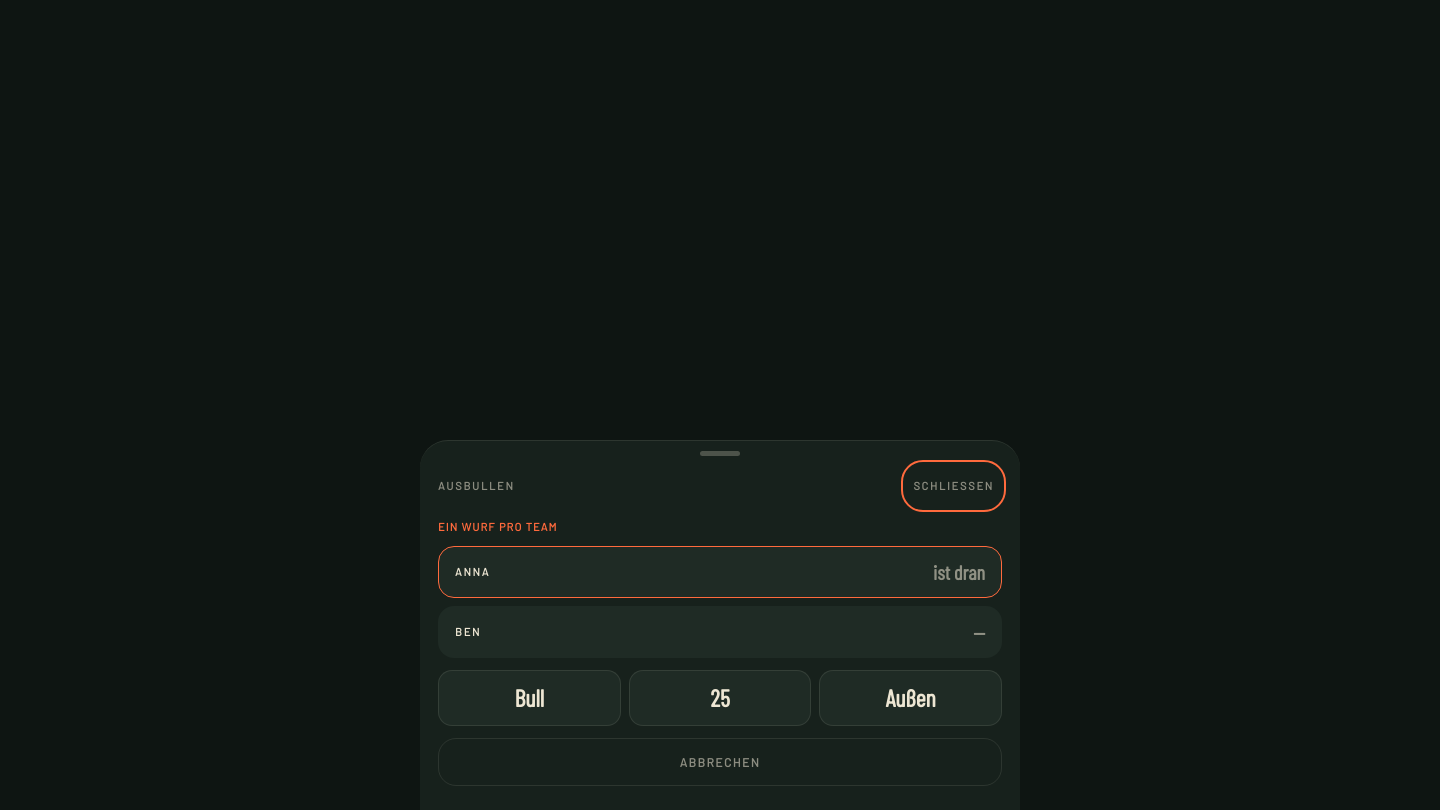
Test: BullOffModal › re-throws only between the tied players
The width and height of the screenshot is (1440, 810).
Click the button "25" at (720, 698), box [629,670,811,726]
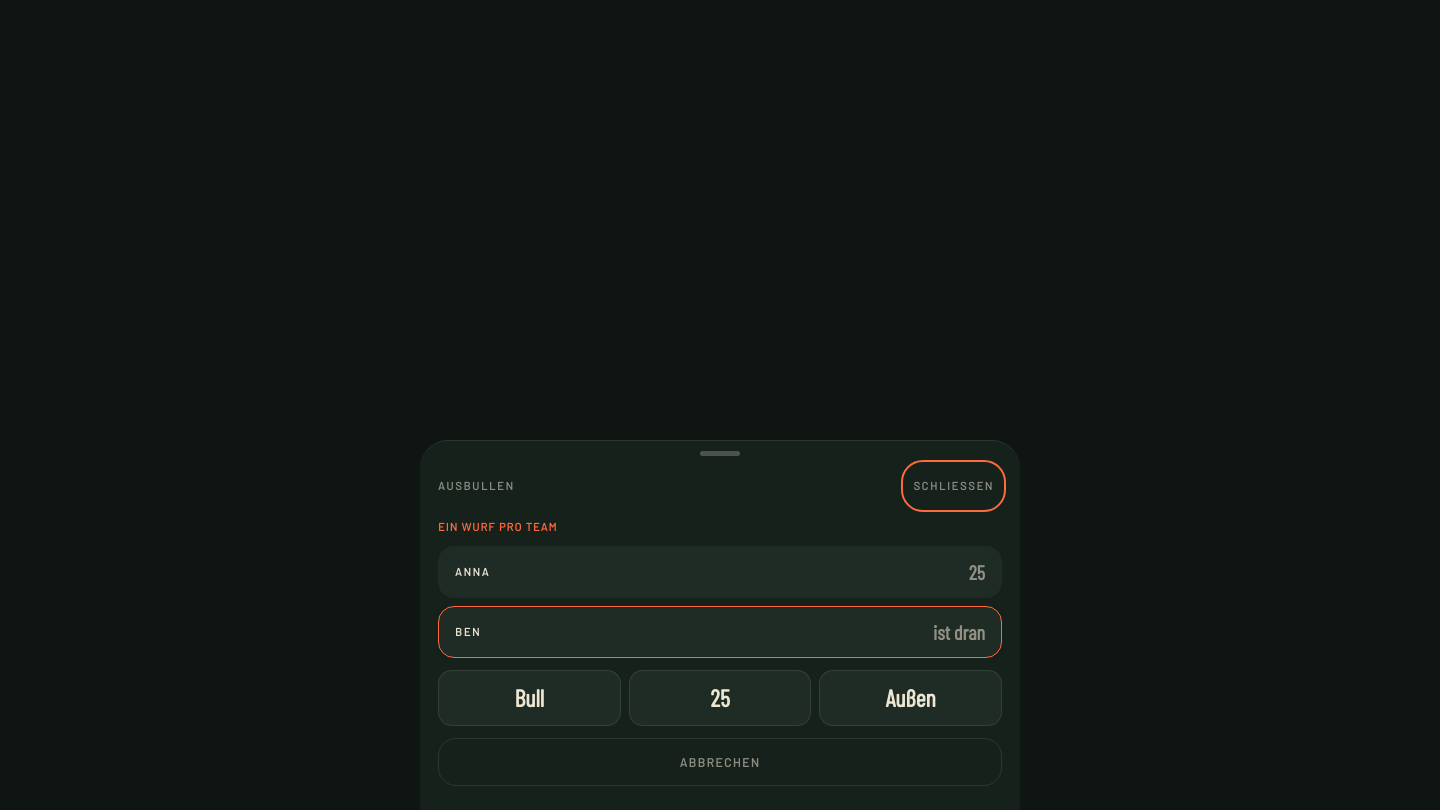
Click the button "25" at (720, 698), box [629,670,811,726]
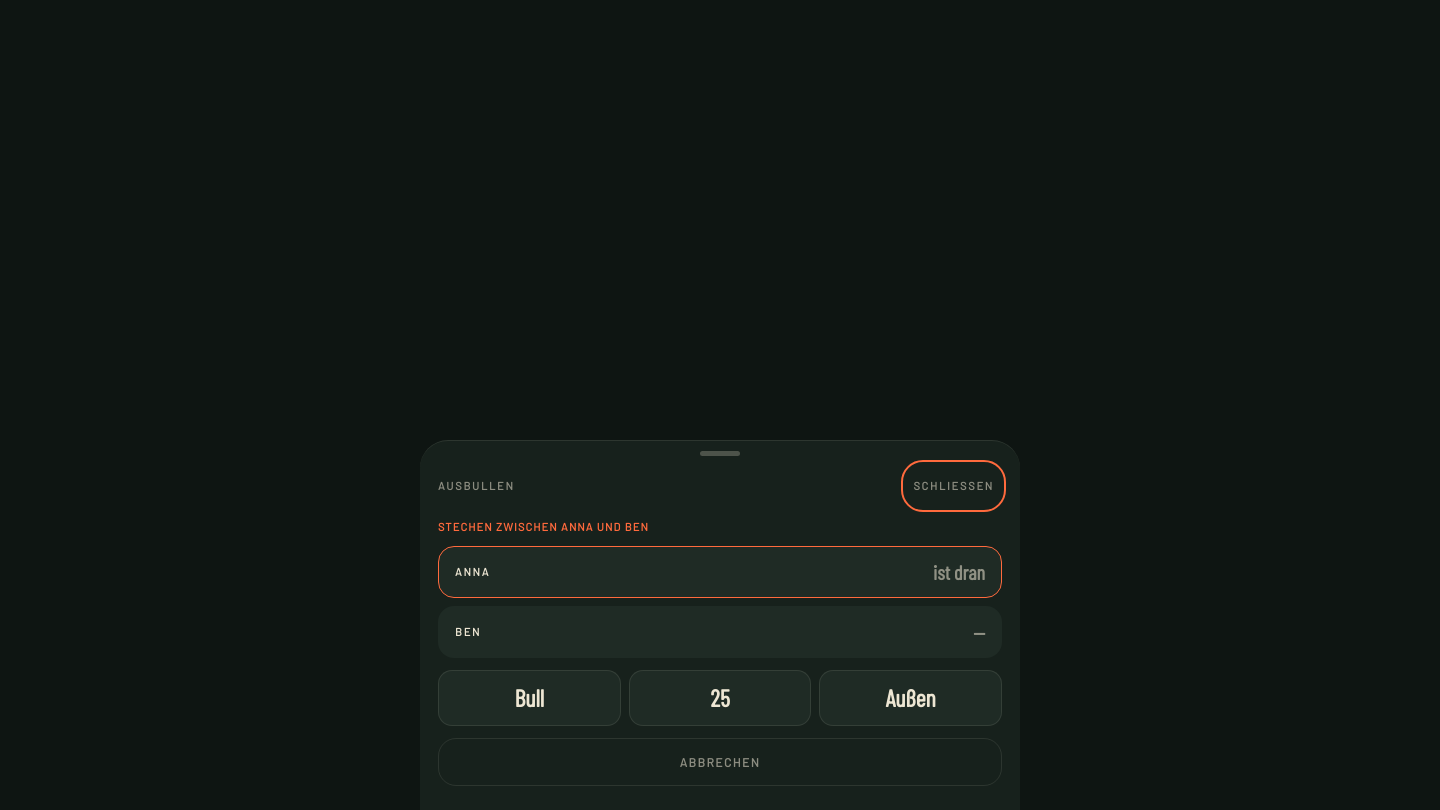
Expected: the text "Stechen zwischen Anna und Ben" is shown, [438,520,649,533]
